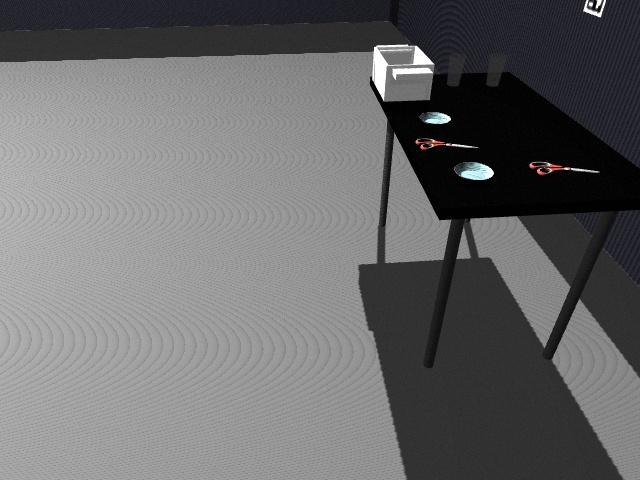cup: (486, 53, 507, 88), (446, 52, 465, 88)
plate: (454, 161, 495, 181), (418, 111, 452, 125)
scissors: (527, 159, 600, 175), (417, 138, 478, 151)
